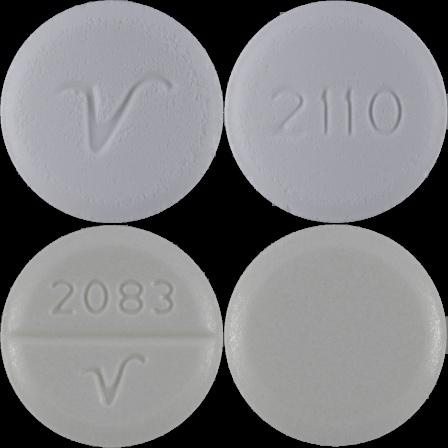0603-2110: (0, 0, 224, 224)
